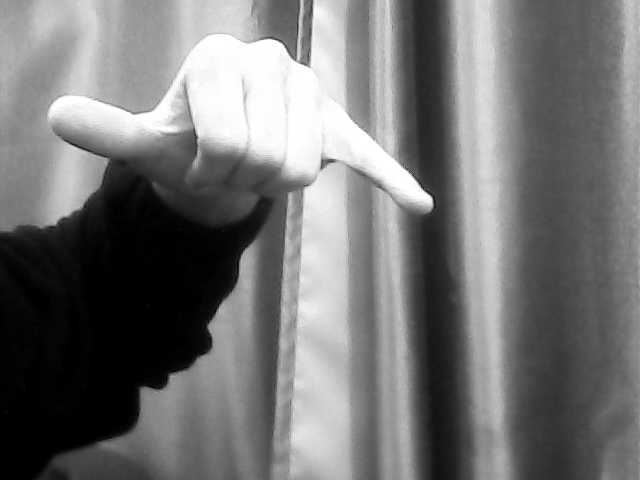aloha: (36, 25, 441, 232)
